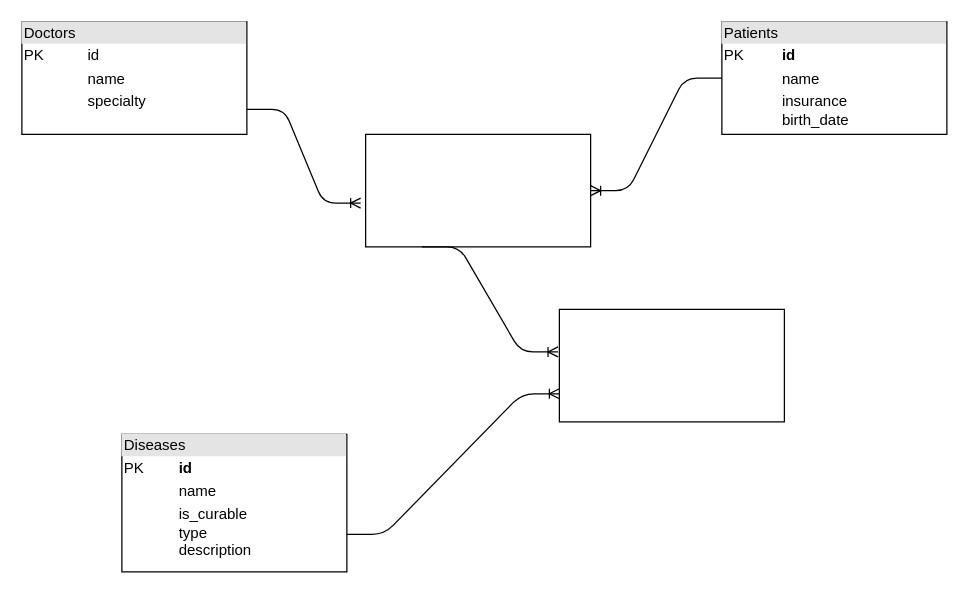
The diagram is 969 pixels wide and 594 high, and some of its shapes have lost their labels. The centre of each missing label's shape, as x and y in pixels:
Diagnoses PK id FK1, FK2 visit_id, disease_id notes: point (671, 365)
Visits PK id FK1,FK2 doctor_id, patient_id date_of_visit: point (477, 190)
